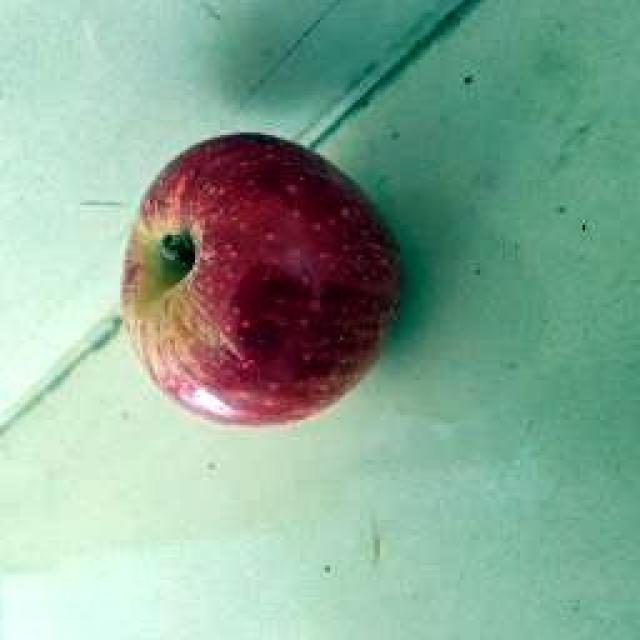Good_Apple: (118, 132, 402, 430)
